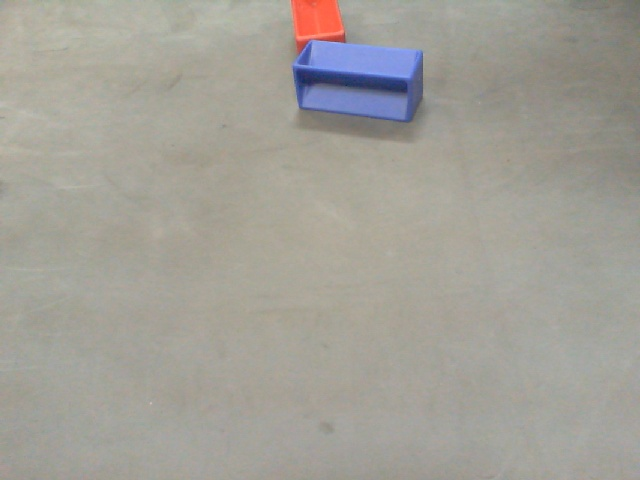BlueSample: (286, 35, 427, 125)
RedSample: (292, 1, 347, 56)
